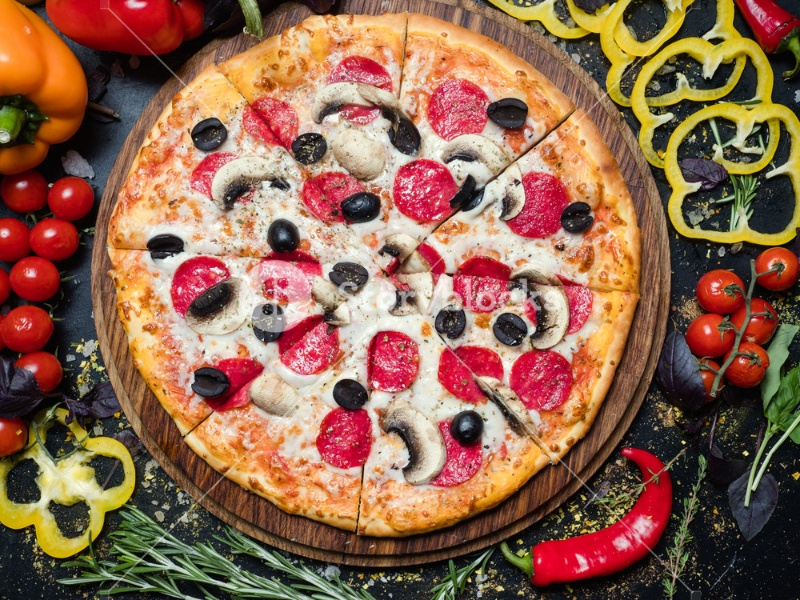olive noir: (374, 108, 428, 155), (480, 94, 537, 132), (285, 130, 338, 170), (185, 363, 238, 403), (323, 375, 378, 413), (326, 258, 376, 298), (135, 230, 197, 260), (259, 216, 307, 253), (181, 118, 230, 153), (335, 191, 385, 223), (450, 408, 485, 451)
pepperonis: (504, 168, 574, 248), (500, 343, 576, 412), (270, 314, 351, 377), (388, 158, 461, 226), (423, 75, 492, 142), (362, 325, 427, 396), (312, 408, 382, 472), (432, 343, 508, 400), (235, 94, 306, 150)
